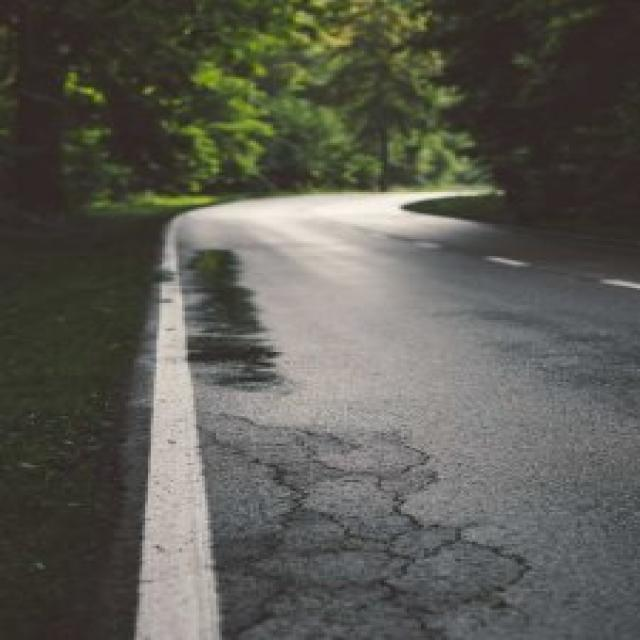Pothole: (23, 350, 640, 623)
